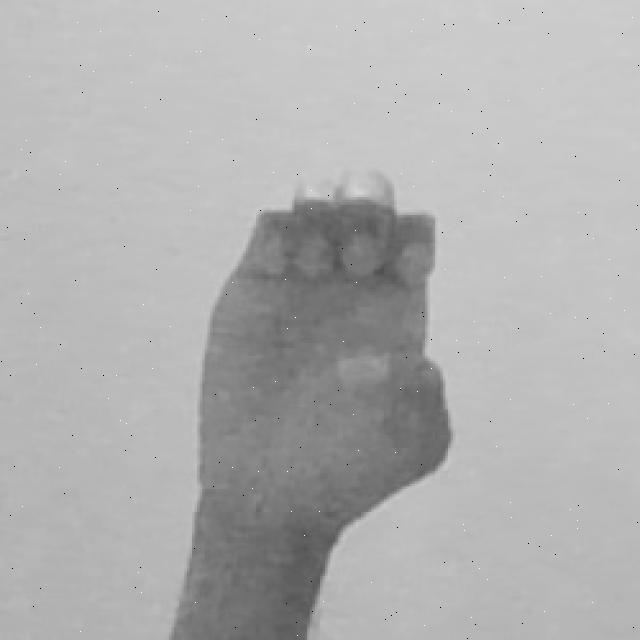E: (172, 169, 456, 640)
